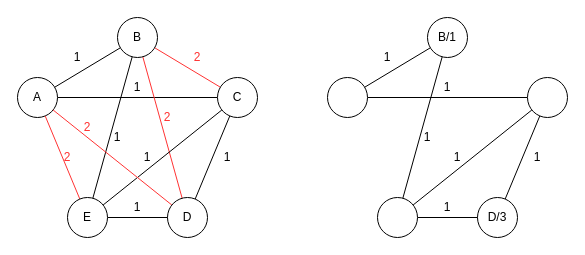
Image size: 585x255. Some labels were removed from this diagram. Here are the shapes that lost their labels. From the top down, the centre of each, then its label:
At (347,97): "A/0".
At (547,97): "C/2".
At (397,217): "E/4".
